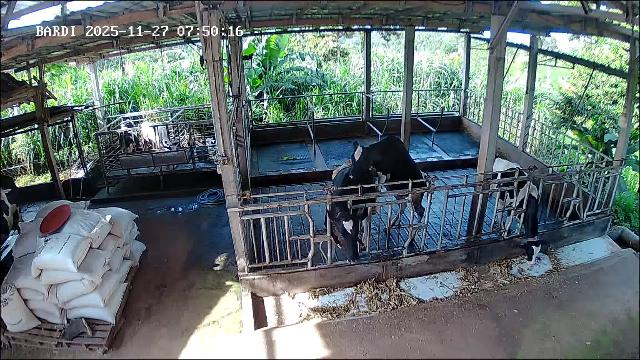mounting: (331, 138, 431, 244)
